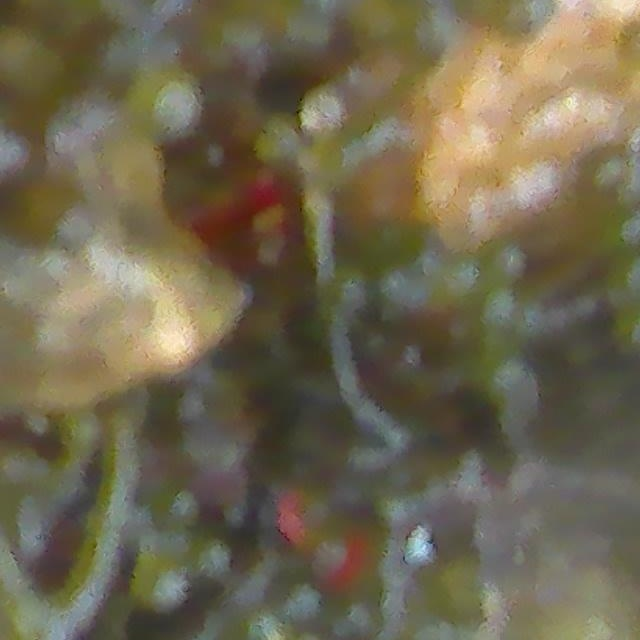SeaGrape: (129, 66, 202, 142)
